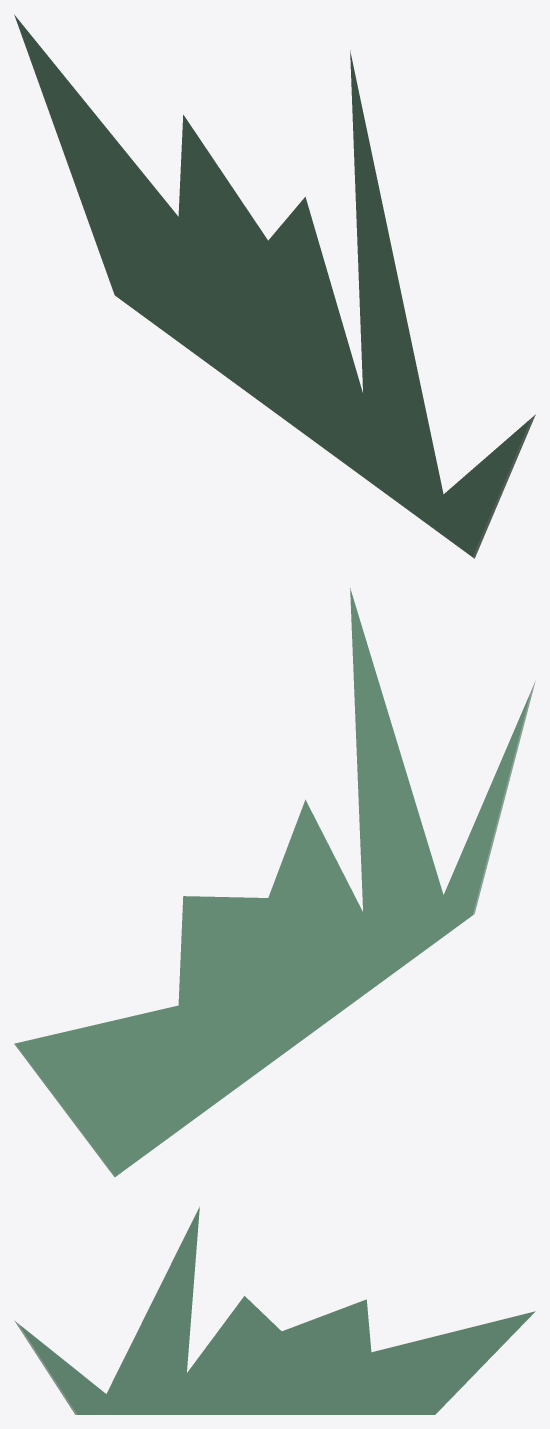
The model's file is grass-3.obj.
3 renders of one model, top to bottom at view 1: azimuth 30°, elevation 25°; view 2: azimuth 150°, elevation 25°; view 3: azimuth 270°, elevation 25°, orthographic. The views are drawn at different scales.
Visible parts, largest first — view 1: Plane.006; view 2: Plane.006; view 3: Plane.006.
Part boxes in pixels (x1,y1,x2,y2): Plane.006: (14,14,535,558); Plane.006: (14,588,535,1177); Plane.006: (14,1206,535,1414).
Bounding box in the file's own units: 0 × 0.194 × 0.4392.
Materials: 1 (1 with a texture image).
